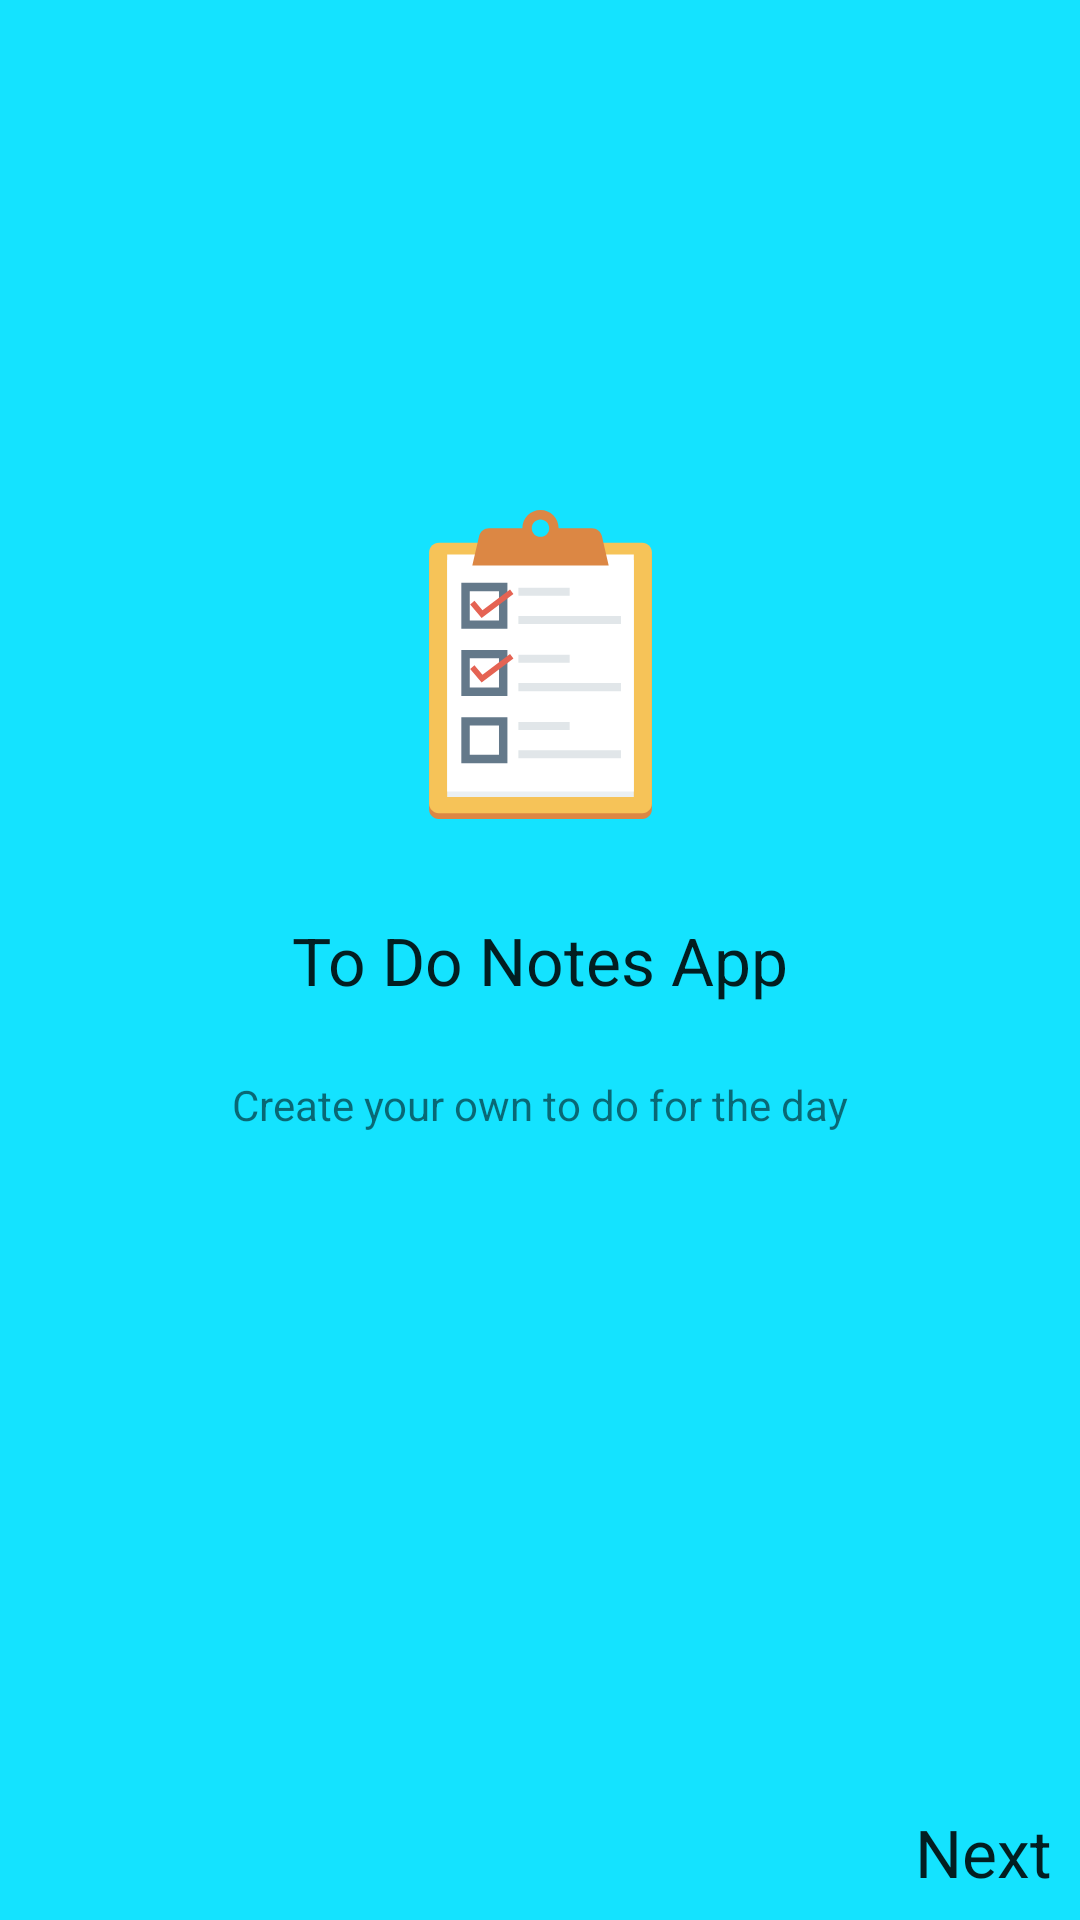

Where icons sit on this 1080 × 1920 app screen, as (x1, y1, x2, y2):
checklist: (429, 510, 652, 819)
